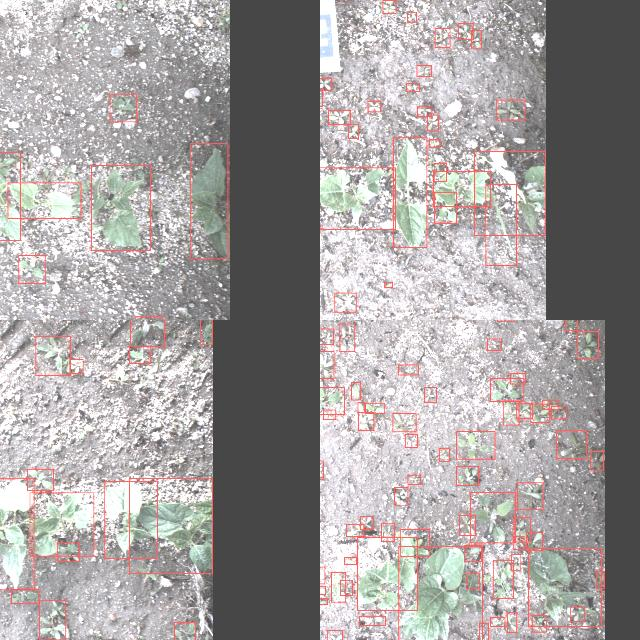crop: (398, 546, 482, 640), (130, 478, 212, 572), (474, 151, 544, 235), (528, 548, 602, 626), (91, 164, 150, 250), (320, 167, 395, 228), (357, 536, 417, 610), (190, 144, 228, 258), (104, 480, 158, 558), (29, 492, 93, 556), (392, 137, 426, 247), (0, 478, 33, 589), (8, 182, 80, 218), (432, 170, 490, 206), (0, 151, 19, 240), (330, 571, 346, 601)
weed: (486, 183, 516, 264), (470, 492, 514, 542), (34, 336, 70, 374), (456, 431, 494, 459), (39, 599, 65, 639), (129, 320, 164, 346), (399, 528, 429, 556), (556, 430, 586, 458), (493, 560, 513, 598), (18, 255, 44, 283), (110, 93, 136, 121), (517, 482, 543, 510), (490, 378, 522, 400), (434, 192, 456, 222), (320, 386, 343, 413), (27, 468, 53, 490), (496, 99, 524, 119), (578, 330, 598, 358), (392, 412, 416, 432), (10, 588, 38, 604), (338, 323, 354, 351), (334, 292, 356, 312), (56, 542, 80, 560), (514, 516, 530, 542), (530, 402, 550, 422), (174, 621, 195, 640), (456, 466, 478, 484), (503, 400, 519, 424), (128, 346, 150, 362), (320, 350, 332, 377), (434, 27, 450, 47), (459, 515, 475, 535), (328, 110, 350, 124), (464, 545, 482, 561), (526, 532, 542, 550), (590, 450, 604, 470), (200, 320, 212, 343), (516, 402, 532, 418), (393, 487, 407, 505), (532, 614, 546, 632), (358, 412, 372, 430), (381, 523, 394, 541), (458, 23, 472, 39), (570, 606, 584, 622), (434, 162, 446, 180), (359, 616, 385, 624), (466, 572, 479, 588), (506, 612, 516, 632), (397, 364, 417, 374), (364, 402, 384, 412), (416, 64, 432, 76), (346, 524, 362, 536), (550, 406, 566, 418), (424, 386, 436, 402), (320, 328, 332, 344), (471, 29, 481, 47), (350, 381, 360, 399), (427, 114, 438, 130), (326, 629, 342, 640), (70, 359, 82, 373), (340, 580, 352, 594), (404, 434, 418, 446), (348, 122, 358, 138), (416, 106, 432, 116), (511, 554, 521, 570), (382, 0, 395, 12), (487, 338, 501, 349), (479, 623, 488, 640), (368, 100, 380, 112), (360, 516, 372, 528), (512, 536, 524, 548), (596, 570, 604, 588), (542, 399, 558, 408), (320, 77, 331, 90), (490, 616, 504, 626), (510, 373, 524, 383), (406, 474, 419, 484), (439, 448, 449, 460), (323, 409, 335, 419), (565, 320, 577, 329), (406, 11, 416, 21), (406, 83, 418, 91), (344, 556, 356, 564), (429, 139, 439, 147), (358, 402, 364, 412), (320, 598, 326, 604), (384, 282, 392, 286)
